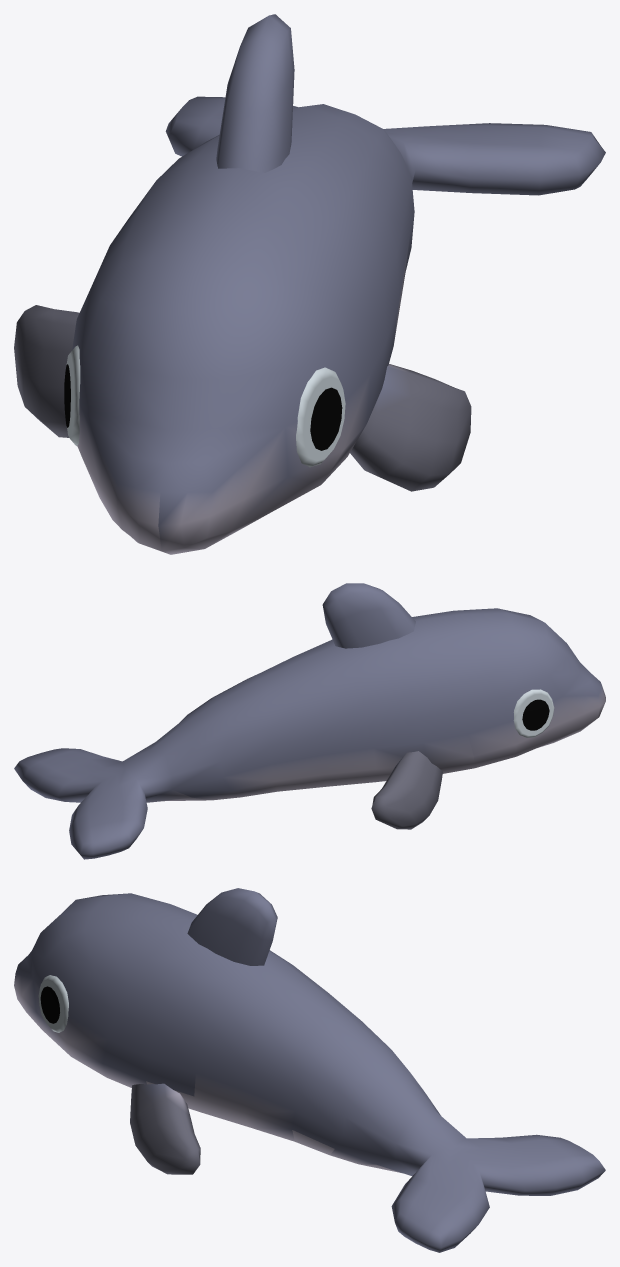
The model's file is Dolphin.glb.
3 views of the same model, one above another, from view 1: azimuth 30°, elevation 25°; view 2: azimuth 150°, elevation 25°; view 3: azimuth 270°, elevation 25° (orthographic). The views are drawn at different scales.
Visible parts, largest first — view 1: 40; view 2: 40; view 3: 40.
Boxes of the visible parts, left/top/right/bottom form: 40: left=14, top=14, right=605, bottom=554; 40: left=14, top=583, right=605, bottom=859; 40: left=14, top=888, right=605, bottom=1252.
Bounding box in the file's own units: 1.4 × 0.7019 × 1.49.
